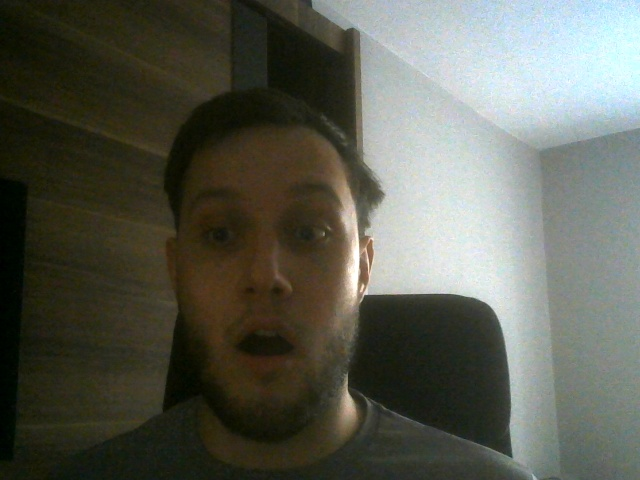surprised: (164, 90, 375, 436)
